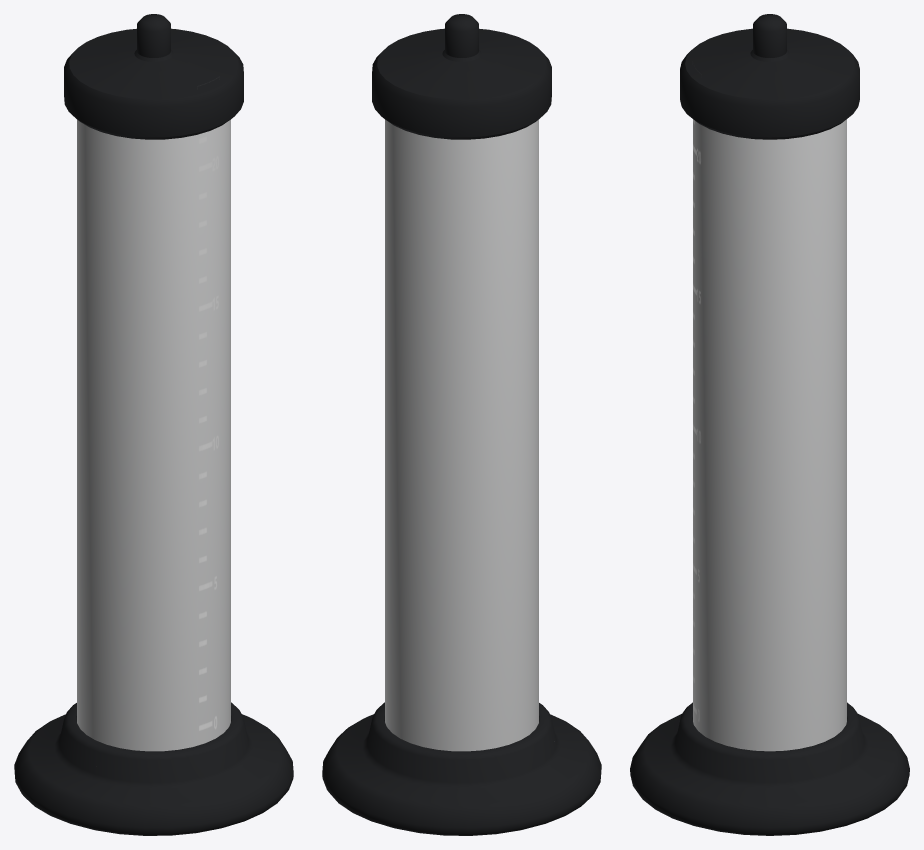
The model's file is droptube.glb.
3 renders of one model, left to right at view 1: azimuth 30°, elevation 25°; view 2: azimuth 150°, elevation 25°; view 3: azimuth 270°, elevation 25°, orthographic.
Visible parts, largest first — view 1: droptube_tube, droptube_ends, droptube_marks; view 2: droptube_tube, droptube_ends; view 3: droptube_tube, droptube_ends, droptube_marks.
Part boxes in pixels (x1,y1,x2,y2): droptube_tube: (77, 119, 230, 751); droptube_ends: (14, 14, 293, 835); droptube_marks: (199, 136, 218, 730); droptube_tube: (385, 119, 538, 751); droptube_ends: (322, 14, 601, 835); droptube_tube: (693, 119, 846, 751); droptube_ends: (630, 14, 909, 835); droptube_marks: (693, 119, 700, 721).
Size of the model in its own units: 0.0908 by 0.273 by 0.0908.
Materials: 5 (2 with a texture image).
